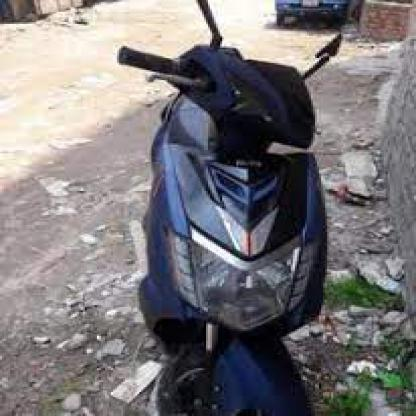bike: (117, 3, 356, 414)
